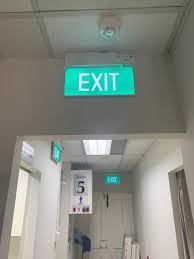exit: (6, 135, 193, 258)
lit_exit_sign: (64, 65, 135, 98)
